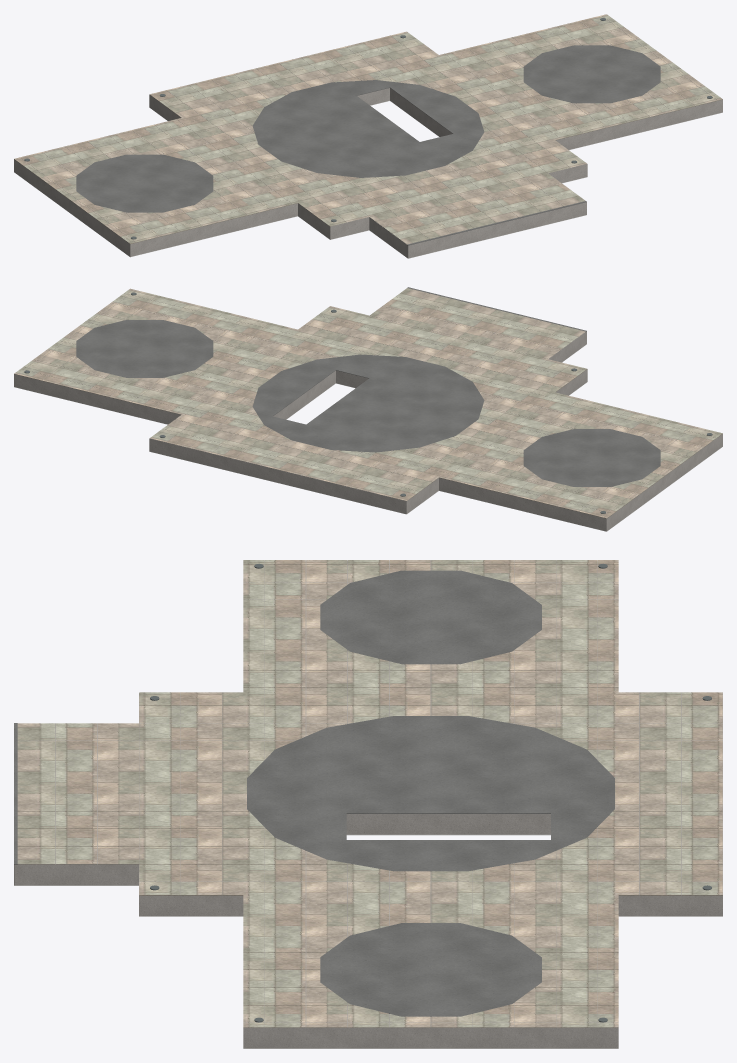
Rendered from roof.glb.
3 views of the same model, one above another, from view 1: azimuth 30°, elevation 25°; view 2: azimuth 150°, elevation 25°; view 3: azimuth 270°, elevation 25° (orthographic). The views are drawn at different scales.
Visible parts, largest first — view 1: roof_paver, roof_membrane, roof_concrete, roof_ceil; view 2: roof_paver, roof_membrane, roof_concrete, roof_ceil; view 3: roof_paver, roof_membrane, roof_concrete, roof_ceil.
Part boxes in pixels (x1=…): roof_paver: x1=14, y1=14, x2=722, y2=244; roof_membrane: x1=76, y1=45, x2=660, y2=245; roof_concrete: x1=14, y1=16, x2=722, y2=258; roof_ceil: x1=14, y1=100, x2=722, y2=258; roof_paver: x1=14, y1=288, x2=722, y2=518; roof_membrane: x1=76, y1=287, x2=660, y2=486; roof_concrete: x1=14, y1=291, x2=722, y2=531; roof_ceil: x1=14, y1=344, x2=721, y2=531; roof_paver: x1=17, y1=560, x2=722, y2=1027; roof_membrane: x1=14, y1=570, x2=614, y2=1016; roof_concrete: x1=14, y1=560, x2=722, y2=1048; roof_ceil: x1=14, y1=834, x2=722, y2=1048.
Size of the model in its own units: 21.2 by 0.48 by 13.6.
5 materials, 3 textured.
